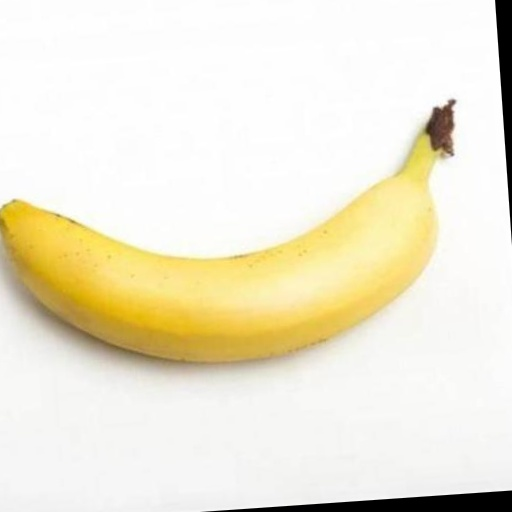fruit: (0, 101, 453, 361)
